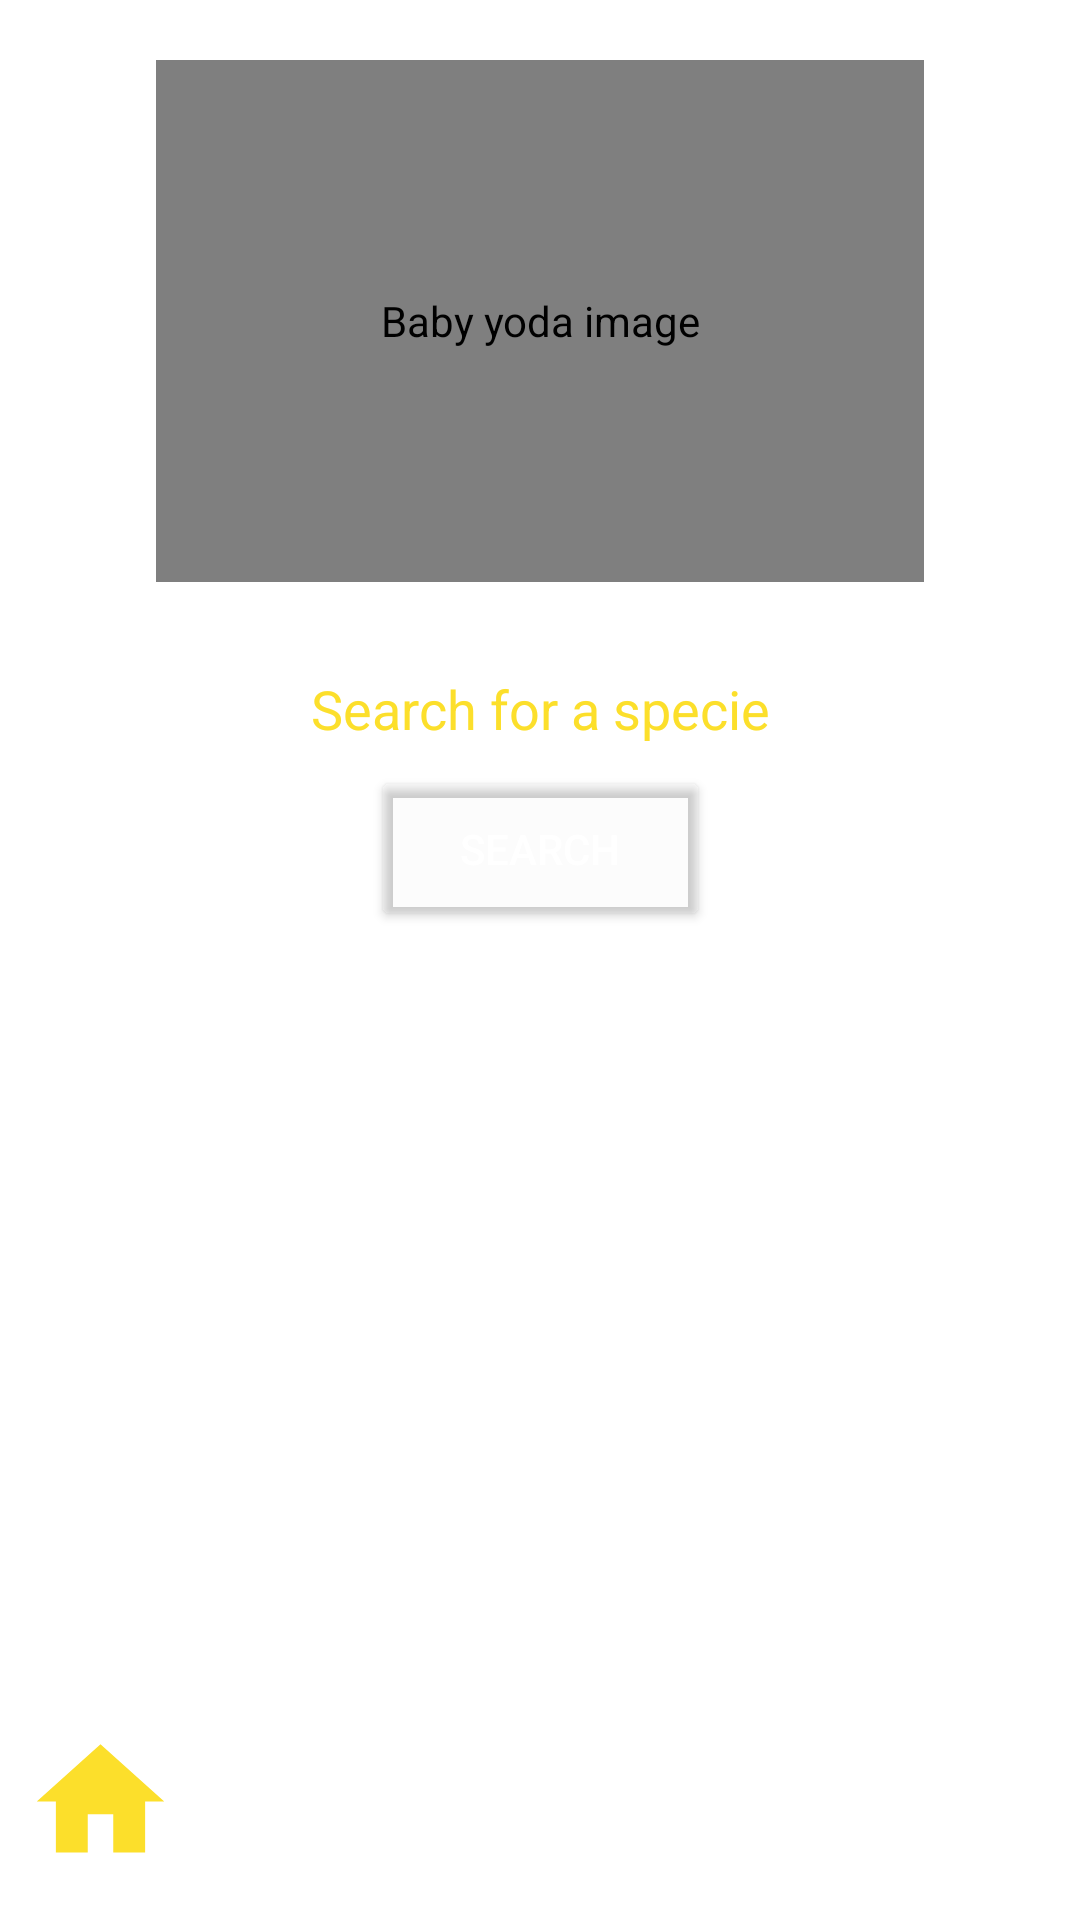

Where to tap for icons on this 1080*1920 app screen, as (x,y):
Home button: (100,1798)
